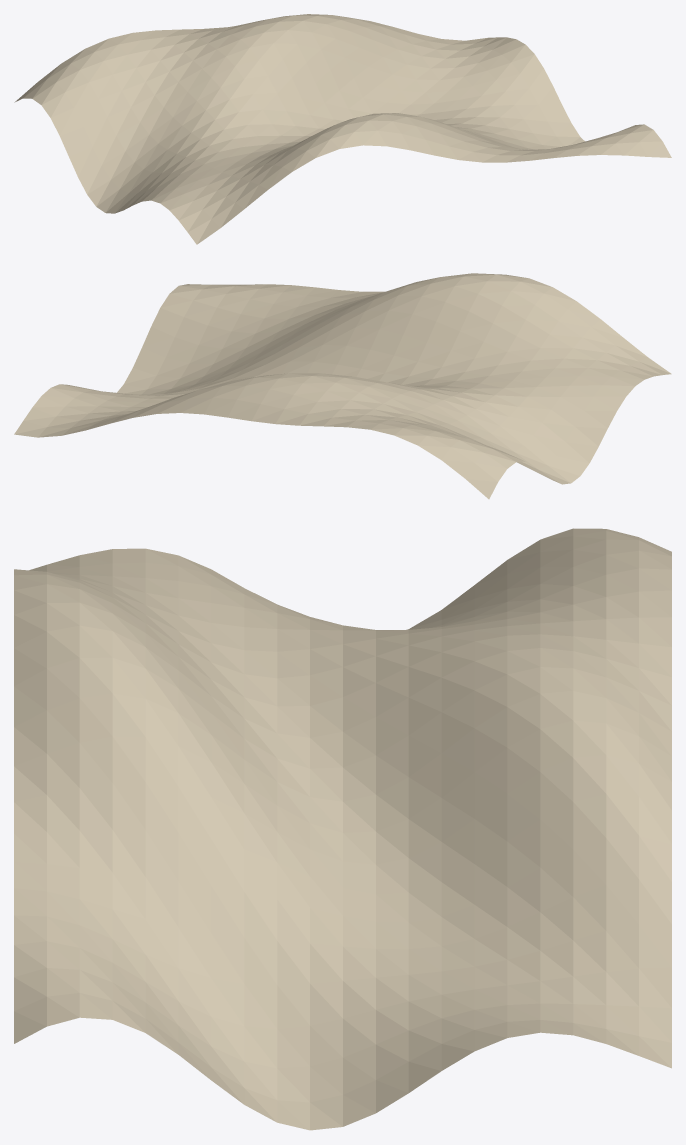
File: dense-prop-runtime.glb
3 views of the same model, one above another, from view 1: azimuth 30°, elevation 25°; view 2: azimuth 150°, elevation 25°; view 3: azimuth 270°, elevation 25° (orthographic). The views are drawn at different scales.
Parts seen in each view (by area): view 1: Ridge; view 2: Ridge; view 3: Ridge.
Boxes of the visible parts, <box> form: Ridge: <box>14,14,671,244</box>; Ridge: <box>14,273,671,499</box>; Ridge: <box>14,528,671,1130</box>.
Size of the model in its own units: 1.2 by 0.3443 by 0.8.
